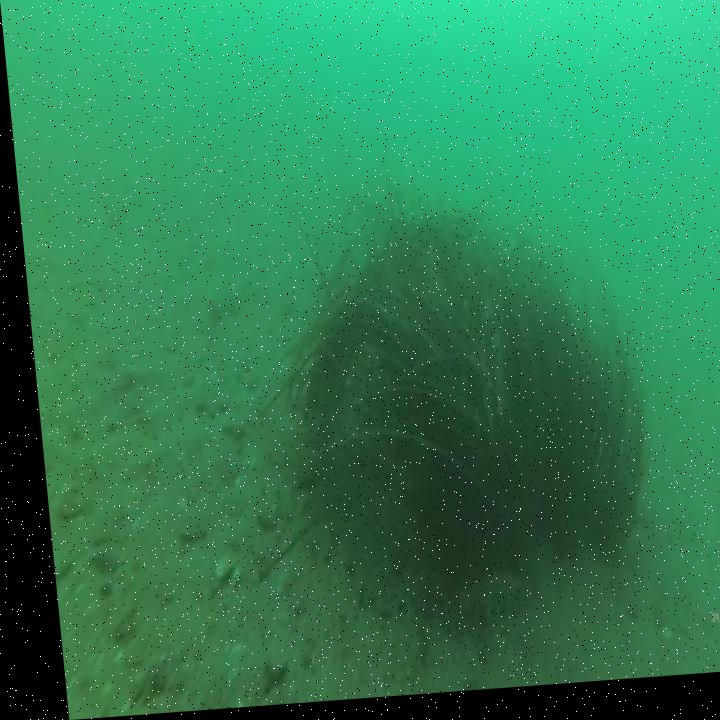holothurian: (440, 570, 518, 636)
